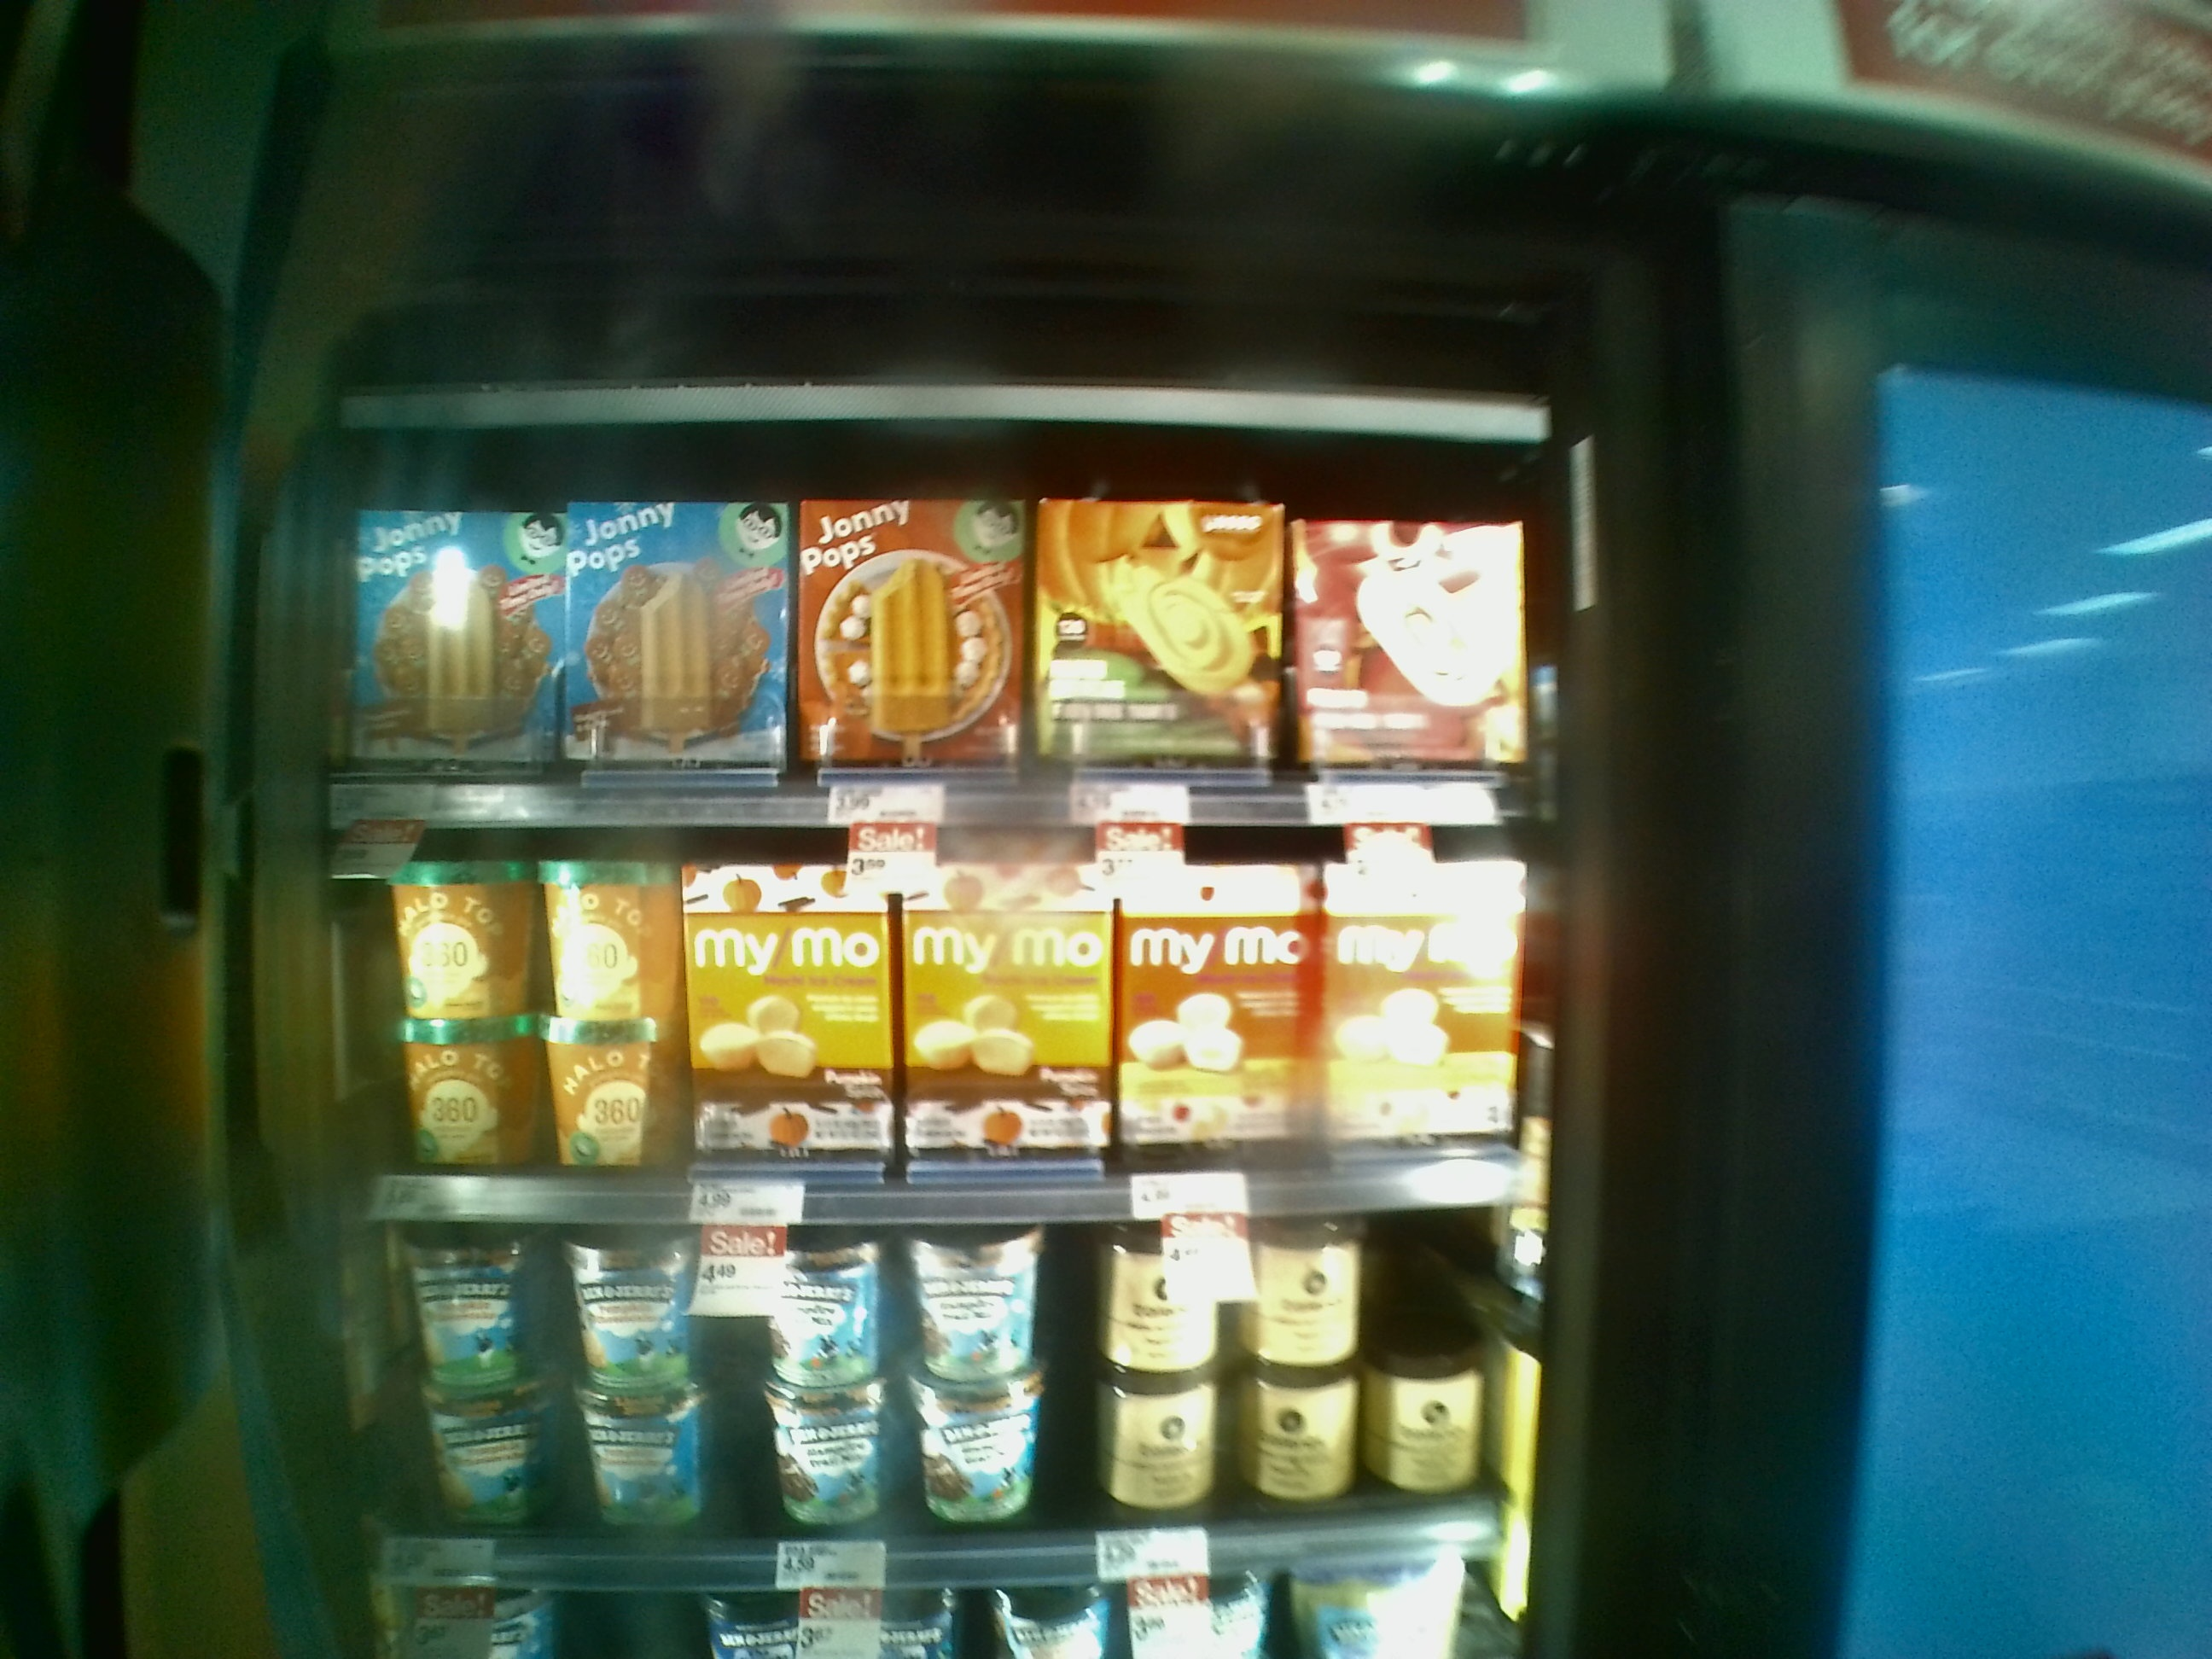shelf: (314, 786, 1517, 1202), (296, 1182, 1517, 1567), (319, 439, 1541, 823)
